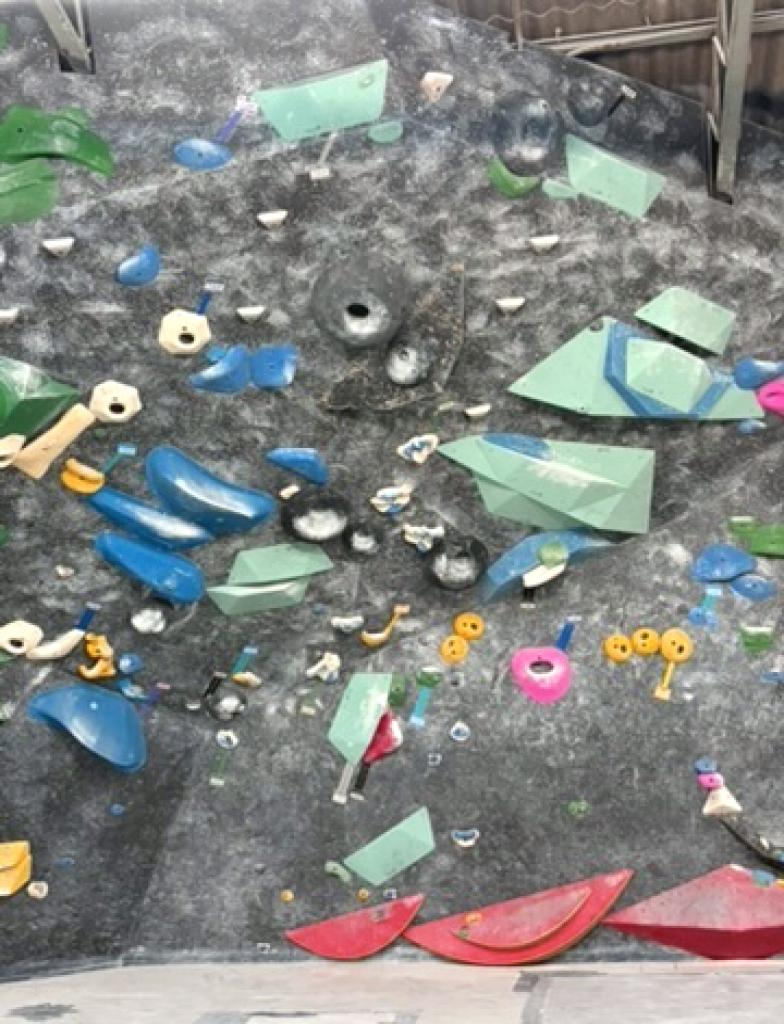ledge: (146, 448, 272, 533), (255, 60, 385, 139), (87, 486, 211, 548), (571, 134, 664, 215), (627, 339, 712, 410)
pocket: (311, 252, 407, 352), (494, 92, 560, 175), (512, 649, 568, 702), (159, 311, 209, 356), (89, 380, 139, 420), (660, 627, 690, 661), (453, 612, 483, 640), (440, 634, 468, 663), (603, 634, 629, 661), (632, 627, 658, 653)
tape: (213, 98, 253, 141), (331, 764, 353, 802), (229, 646, 255, 676), (409, 687, 429, 725), (653, 663, 673, 698), (555, 619, 575, 649), (351, 764, 368, 798)
undercling: (30, 683, 144, 772), (94, 531, 203, 602), (636, 288, 734, 352)
volume: (507, 316, 760, 416), (442, 433, 651, 529)
